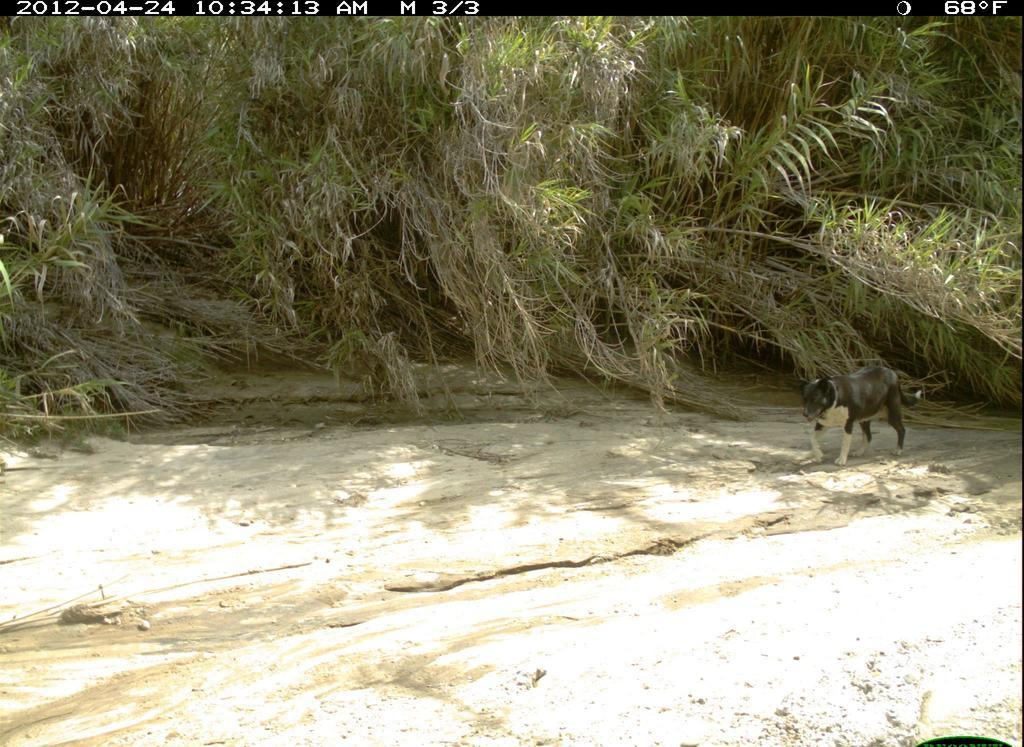dog: (784, 340, 922, 479)
